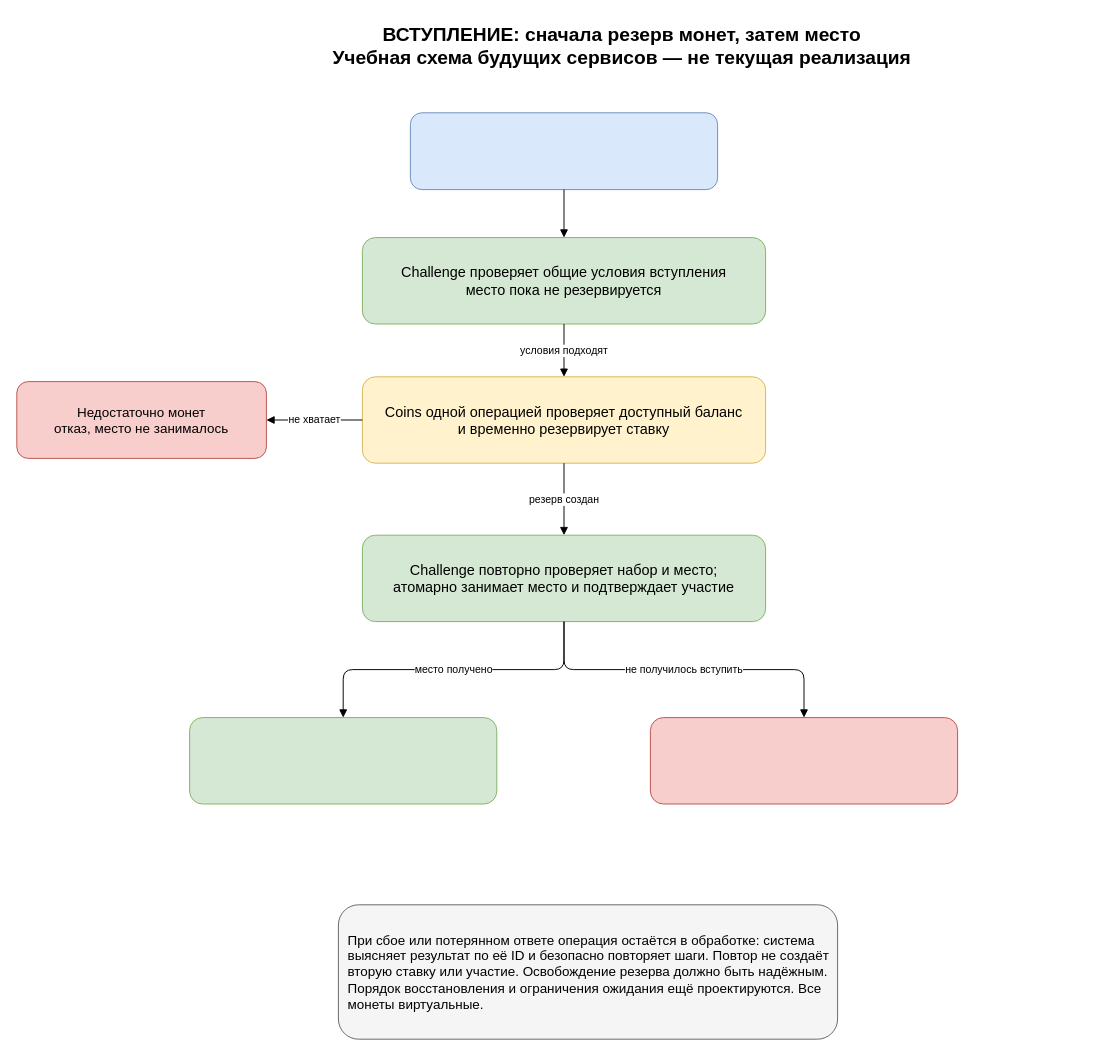
This 1109x1056 diagram has some shape labels left out. The centre of each missing label's shape, as x and y in pixels:
"Нет места / набор закрыт Coins освобождает резерв ставки" goes at (803,760).
"Участие подтверждено ставка остаётся зарезервированной" goes at (343,760).
"Участник нажал «Вступить» операция получает уникальный ID" goes at (563,151).
